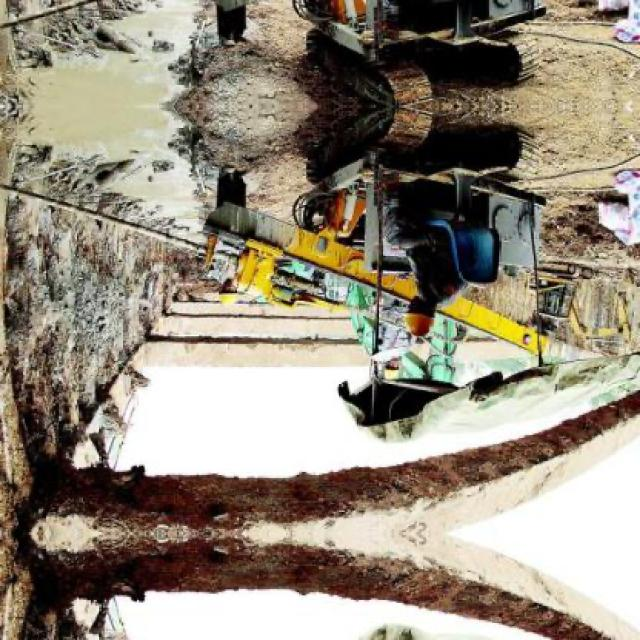con casco: (394, 281, 451, 350)
